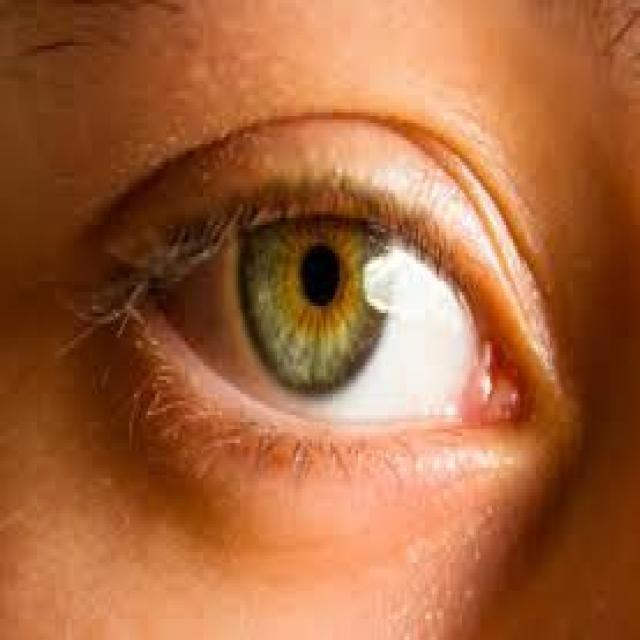Normal: (30, 76, 559, 552)
